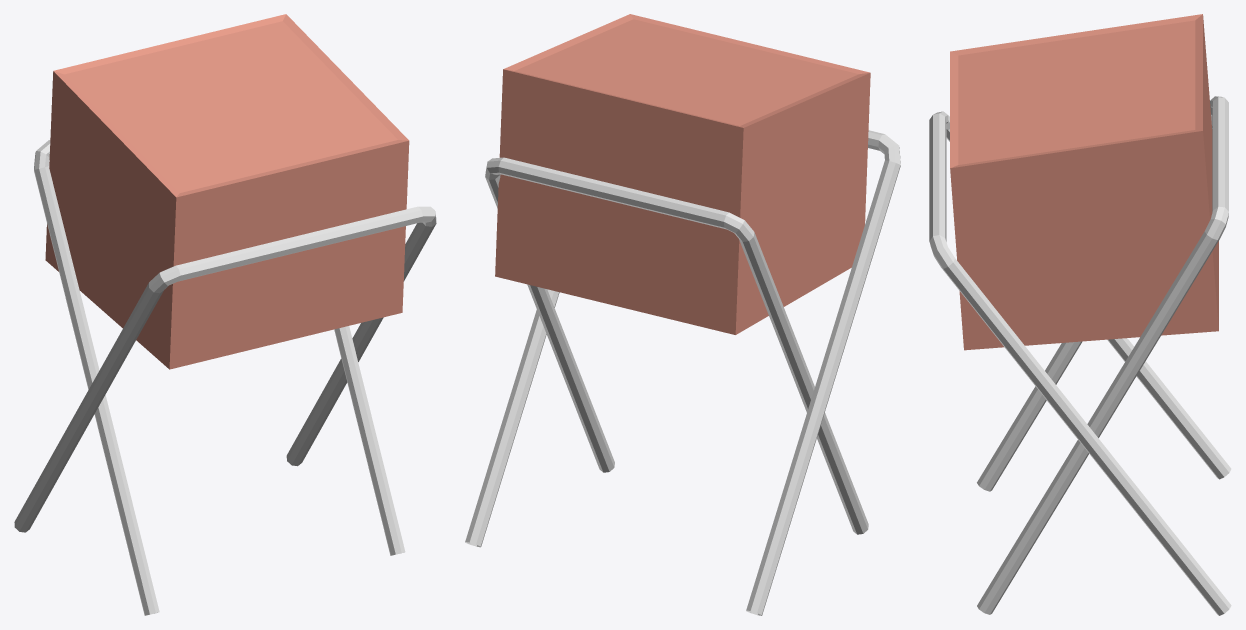
The model's file is model_Ashtray.fbx.
3 renders of one model, left to right at view 1: azimuth 30°, elevation 25°; view 2: azimuth 150°, elevation 25°; view 3: azimuth 270°, elevation 25°, orthographic. The views are drawn at different scales.
Parts seen in each view (by area): view 1: Ashtray; view 2: Ashtray; view 3: Ashtray.
Boxes of the visible parts, x1,y1,x2,y2 form: Ashtray: [14, 14, 436, 615]; Ashtray: [465, 14, 900, 615]; Ashtray: [929, 14, 1231, 615].
Size of the model in its own units: 6813 by 10595 by 6044.
